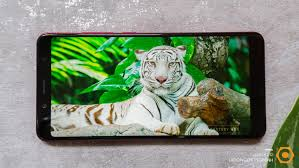bphone: (32, 29, 268, 143)
